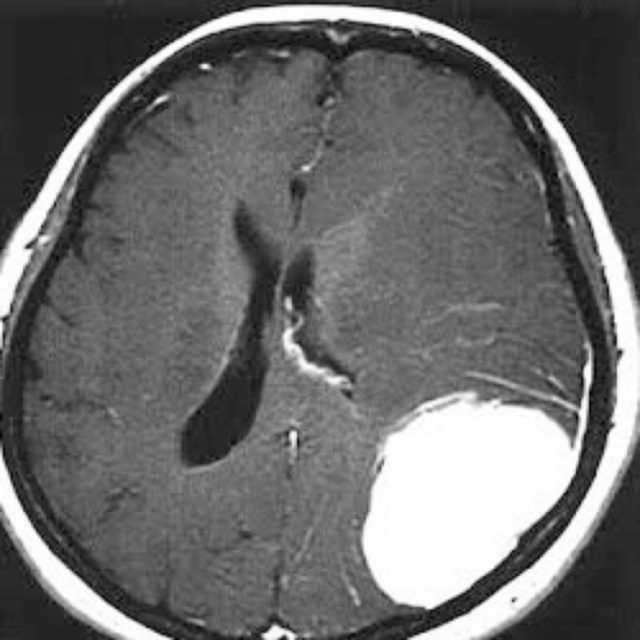meningioma tumor: (353, 377, 584, 611)
